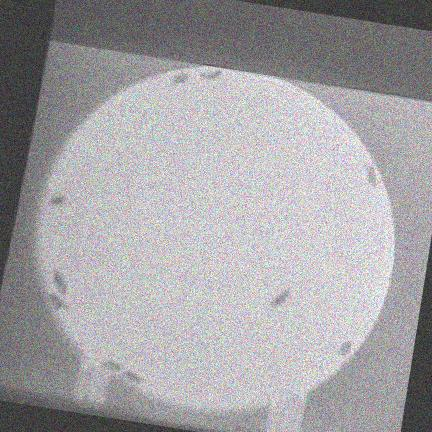fly: (268, 288, 290, 307), (52, 268, 68, 293), (364, 162, 378, 186), (48, 292, 66, 310), (100, 359, 121, 371), (122, 369, 141, 382), (170, 72, 187, 85), (339, 339, 352, 356), (201, 68, 221, 79), (48, 194, 64, 205)
